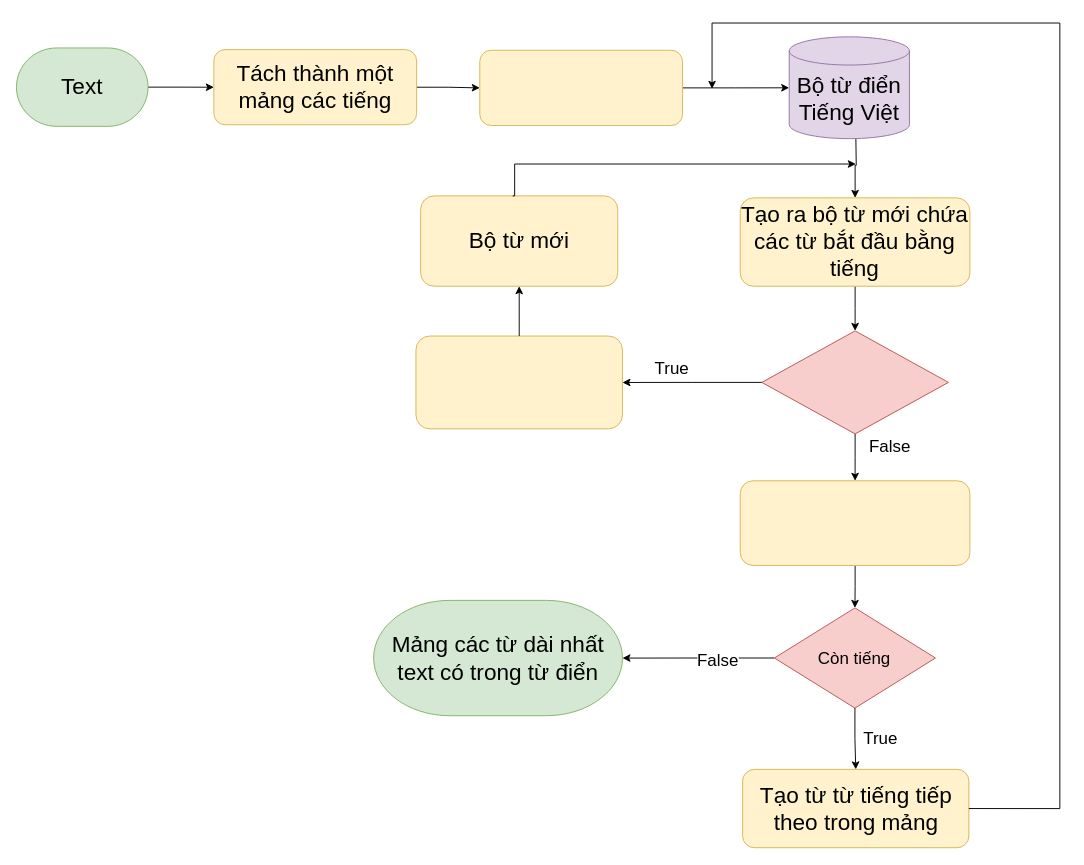
The diagram is 1084 pixels wide and 865 high, and some of its shapes have lost their labels. The box of each missing label's shape, as (x1, y1, x2, y2) in pixels:
Bộ từ có nhiều hơn 1từ: (761, 330, 948, 434)
Gán từ duy nhất vào mảng kết quả: (739, 480, 970, 565)
Tạo ra từ từ tiếng đầu tiên: (479, 49, 683, 125)
Tạo từ từ tiếng đó và tiếng liền sau nó: (415, 335, 622, 429)
